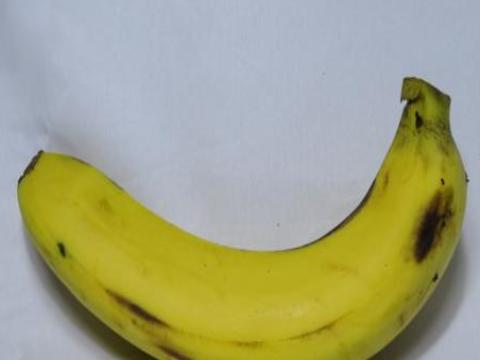freshripe: (6, 60, 479, 359)
